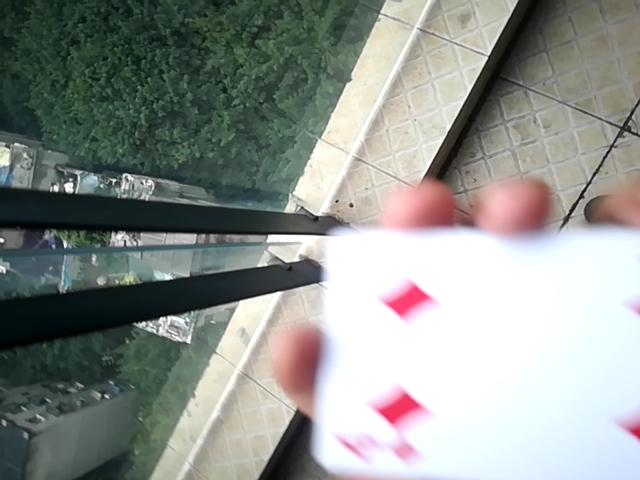fk 4: (298, 225, 640, 480)
